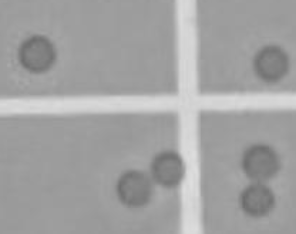cell: (110, 164, 157, 213), (13, 29, 59, 77), (236, 141, 284, 186), (247, 41, 296, 84), (145, 145, 189, 192), (233, 180, 279, 220)
